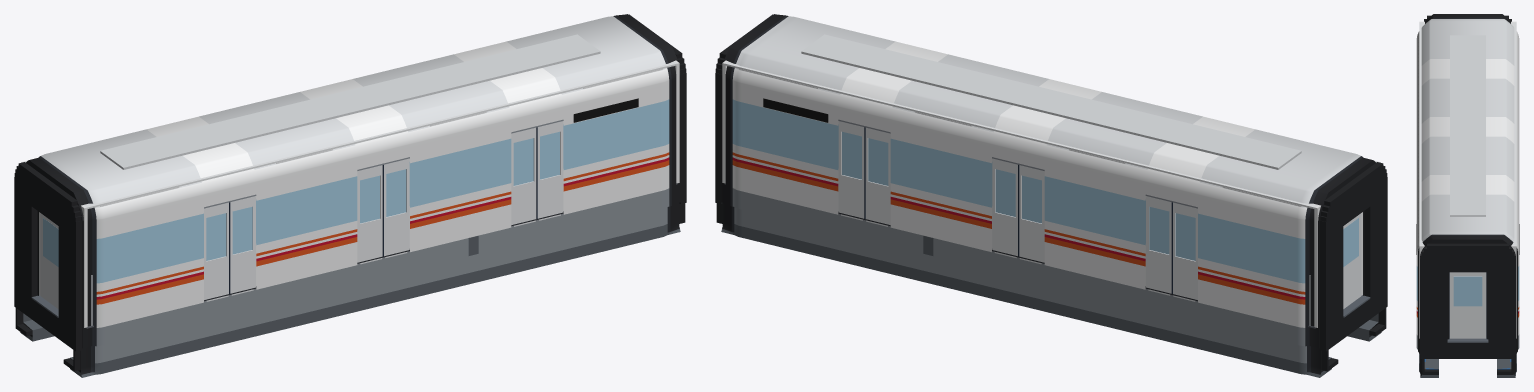
The model's file is beijing_s1_car.obj.
3 renders of one model, left to right at view 1: azimuth 30°, elevation 25°; view 2: azimuth 150°, elevation 25°; view 3: azimuth 270°, elevation 25°, orthographic. The views are drawn at different scales.
Visible parts, largest first — view 1: SHELL, SHELL_roof, SHELL_diaphragm, EXTERNAL_DOOR_4_CG_DR1_TOGGLE_TL_-0.59_X, EXTERNAL_DOOR_10_CG_DR2_TOGGLE_TL_-0.59_X, EXTERNAL_DOOR_16_CG_DR3_TOGGLE_TL_-0.59_X, EXTERNAL_DOOR_17_CG_DR3_TOGGLE_TL_0.59_X, EXTERNAL_DOOR_11_CG_DR2_TOGGLE_TL_0.59_X, EXTERNAL_DOOR_5_CG_DR1_TOGGLE_TL_0.59_X, SHELL_ceiling, CONNECTING_DOOR_1_CG_CR_TOGGLE_TL_0.98_Z, SHELL_end (+1 smaller); view 2: SHELL, SHELL_roof, SHELL_diaphragm, EXTERNAL_DOOR_7_CG_DL1_TOGGLE_TL_-0.59_X, EXTERNAL_DOOR_13_CG_DL2_TOGGLE_TL_-0.59_X, EXTERNAL_DOOR_19_CG_DL3_TOGGLE_TL_-0.59_X, EXTERNAL_DOOR_20_CG_DL3_TOGGLE_TL_0.59_X, EXTERNAL_DOOR_14_CG_DL2_TOGGLE_TL_0.59_X, EXTERNAL_DOOR_8_CG_DL1_TOGGLE_TL_0.59_X, SHELL_ceiling, CONNECTING_DOOR_1_CG_CR_TOGGLE_TL_0.98_Z, SHELL_end (+1 smaller); view 3: SHELL, SHELL_diaphragm, SHELL_roof, CONNECTING_DOOR_2_CG_CF_TOGGLE_TL_0.98_Z, SHELL_ceiling, SHELL_end, SHELL_gangway, SHELL_floor.
Boxes of the visible parts, x1,y1,x2,y2 form: SHELL: (20,14,680,377); SHELL_roof: (100,34,600,169); SHELL_diaphragm: (14,14,686,371); EXTERNAL_DOOR_4_CG_DR1_TOGGLE_TL_-0.59_X: (204,202,230,299); EXTERNAL_DOOR_10_CG_DR2_TOGGLE_TL_-0.59_X: (357,165,383,262); EXTERNAL_DOOR_16_CG_DR3_TOGGLE_TL_-0.59_X: (511,127,537,224); EXTERNAL_DOOR_17_CG_DR3_TOGGLE_TL_0.59_X: (537,121,563,218); EXTERNAL_DOOR_11_CG_DR2_TOGGLE_TL_0.59_X: (384,158,409,256); EXTERNAL_DOOR_5_CG_DR1_TOGGLE_TL_0.59_X: (230,196,255,293); SHELL_ceiling: (24,61,677,209); CONNECTING_DOOR_1_CG_CR_TOGGLE_TL_0.98_Z: (40,213,58,308); SHELL_end: (21,60,679,327); SHELL: (721,14,1381,377); SHELL_roof: (801,34,1301,169); SHELL_diaphragm: (715,14,1387,371); EXTERNAL_DOOR_7_CG_DL1_TOGGLE_TL_-0.59_X: (1171,202,1197,299); EXTERNAL_DOOR_13_CG_DL2_TOGGLE_TL_-0.59_X: (1018,165,1044,262); EXTERNAL_DOOR_19_CG_DL3_TOGGLE_TL_-0.59_X: (864,127,890,224); EXTERNAL_DOOR_20_CG_DL3_TOGGLE_TL_0.59_X: (838,121,864,218); EXTERNAL_DOOR_14_CG_DL2_TOGGLE_TL_0.59_X: (992,158,1017,256); EXTERNAL_DOOR_8_CG_DL1_TOGGLE_TL_0.59_X: (1146,196,1171,293); SHELL_ceiling: (724,61,1377,208); CONNECTING_DOOR_1_CG_CR_TOGGLE_TL_0.98_Z: (1343,213,1361,308); SHELL_end: (722,60,1380,327); SHELL: (1416,14,1519,377); SHELL_diaphragm: (1420,15,1515,374); SHELL_roof: (1450,35,1485,216); CONNECTING_DOOR_2_CG_CF_TOGGLE_TL_0.98_Z: (1450,272,1485,338); SHELL_ceiling: (1419,22,1516,245); SHELL_end: (1419,21,1516,338); SHELL_gangway: (1447,337,1488,342); SHELL_floor: (1449,272,1486,337).
Size of the model in its own units: 15.12 by 4.28 by 2.86.
1 material, 1 textured.
